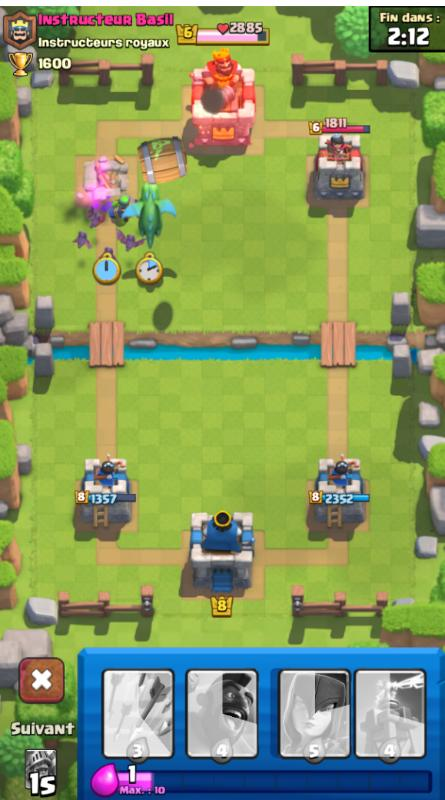bat: (117, 229, 145, 251), (90, 208, 107, 227), (97, 247, 117, 262), (74, 232, 91, 248)
gobelin_lances: (110, 192, 129, 223)
